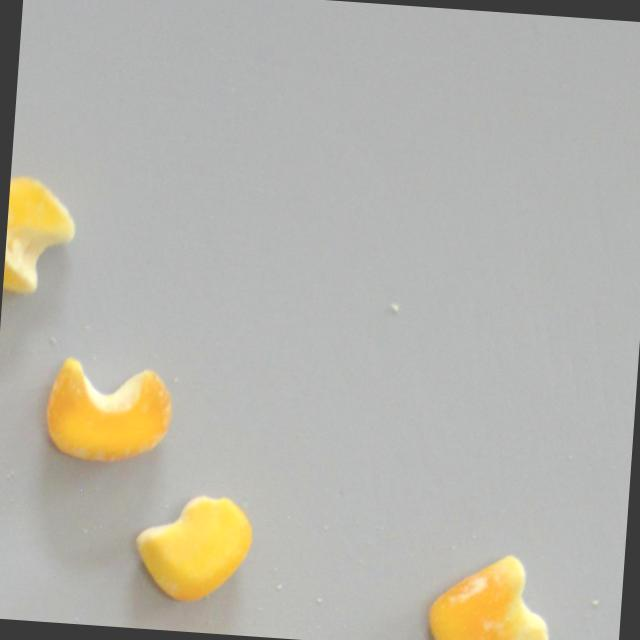no_canjicado: (129, 491, 255, 609)
pelicula: (42, 354, 178, 469), (423, 548, 554, 640), (1, 175, 80, 299)
